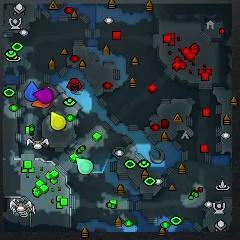p1: (25, 82, 39, 101)
p2: (75, 156, 93, 174)
p3: (34, 88, 54, 102)
p4: (50, 111, 65, 129)
p5: (32, 99, 51, 109)
